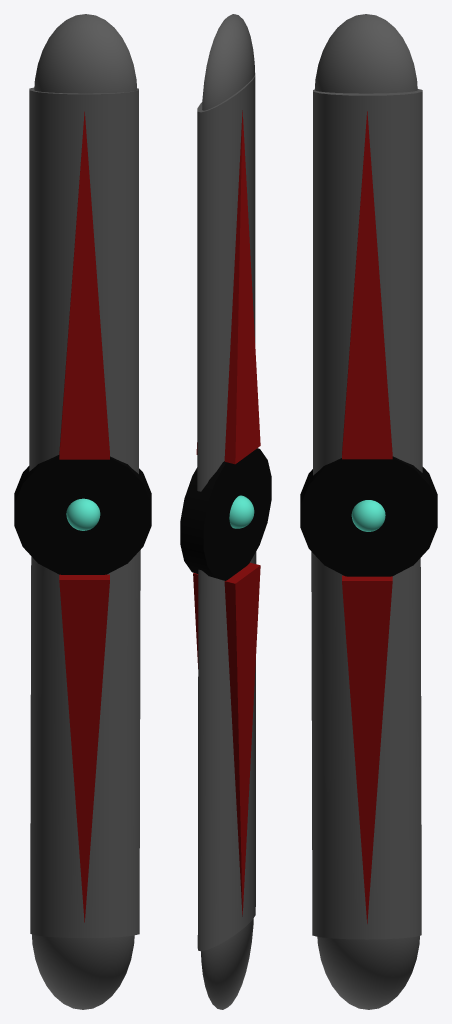
Rendered from Rotating Blade.obj.
3 renders of one model, left to right at view 1: azimuth 90°, elevation 25°; view 2: azimuth 150°, elevation 25°; view 3: azimuth 270°, elevation 25°, orthographic.
Parts seen in each view (by area): view 1: Cylinder001, Cylinder003, Cylinder002, Pyramid001, Pyramid003, Sphere001, Sphere002, Sphere004; view 2: Cylinder001, Cylinder003, Cylinder002, Pyramid001, Pyramid003, Sphere001, Sphere002, Sphere004, Pyramid004; view 3: Cylinder001, Cylinder003, Cylinder002, Pyramid002, Pyramid004, Sphere001, Sphere002, Sphere003.
Boxes of the visible parts, x1,y1,x2,y2 form: Cylinder001: (29, 87, 138, 473); Cylinder003: (30, 550, 140, 937); Cylinder002: (14, 455, 151, 574); Pyramid001: (59, 111, 109, 459); Pyramid003: (59, 574, 109, 922); Sphere001: (34, 14, 137, 93); Sphere002: (32, 934, 134, 1009); Sphere004: (66, 498, 100, 530); Cylinder001: (197, 73, 255, 491); Cylinder003: (197, 551, 256, 951); Cylinder002: (180, 448, 271, 580); Pyramid001: (224, 110, 260, 464); Pyramid003: (224, 562, 260, 916); Sphere001: (202, 14, 254, 110); Sphere002: (201, 918, 253, 1009); Sphere004: (229, 495, 254, 528); Pyramid004: (193, 573, 198, 668); Cylinder001: (313, 89, 422, 475); Cylinder003: (311, 551, 421, 939); Cylinder002: (300, 456, 437, 576); Pyramid002: (342, 111, 392, 459); Pyramid004: (342, 575, 392, 923); Sphere001: (314, 14, 417, 93); Sphere002: (317, 936, 419, 1009); Sphere003: (351, 500, 385, 531).
Bounding box in the file's own units: 4.25 × 77.99 × 9.73.
